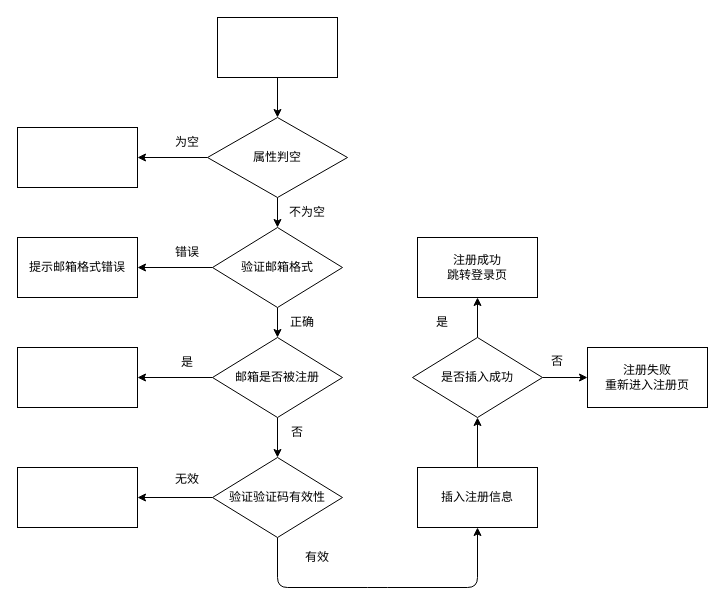
The diagram is 725 pixels wide and 613 high, and some of its shapes have lost their labels. Each missing label, with the centre of its shape:
提示不能为空: (x=77, y=157)
提示邮箱已被注册: (x=77, y=377)
提示验证码过期或错误: (x=77, y=497)
用户注册: (x=277, y=47)
